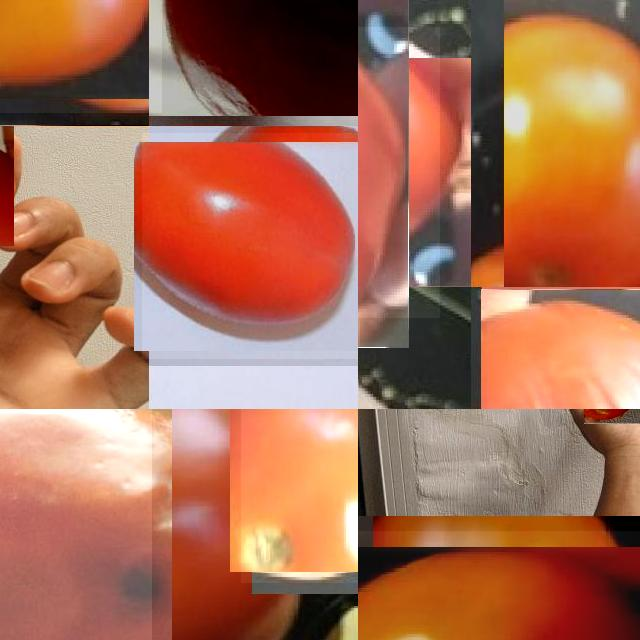Fresh Tomato: (141, 133, 358, 358), (133, 409, 309, 640), (504, 0, 640, 287), (358, 531, 640, 640), (358, 27, 440, 317), (241, 409, 358, 583), (0, 0, 162, 112)
Rotten Tomato: (0, 409, 152, 640), (149, 0, 358, 116), (481, 287, 640, 409)
